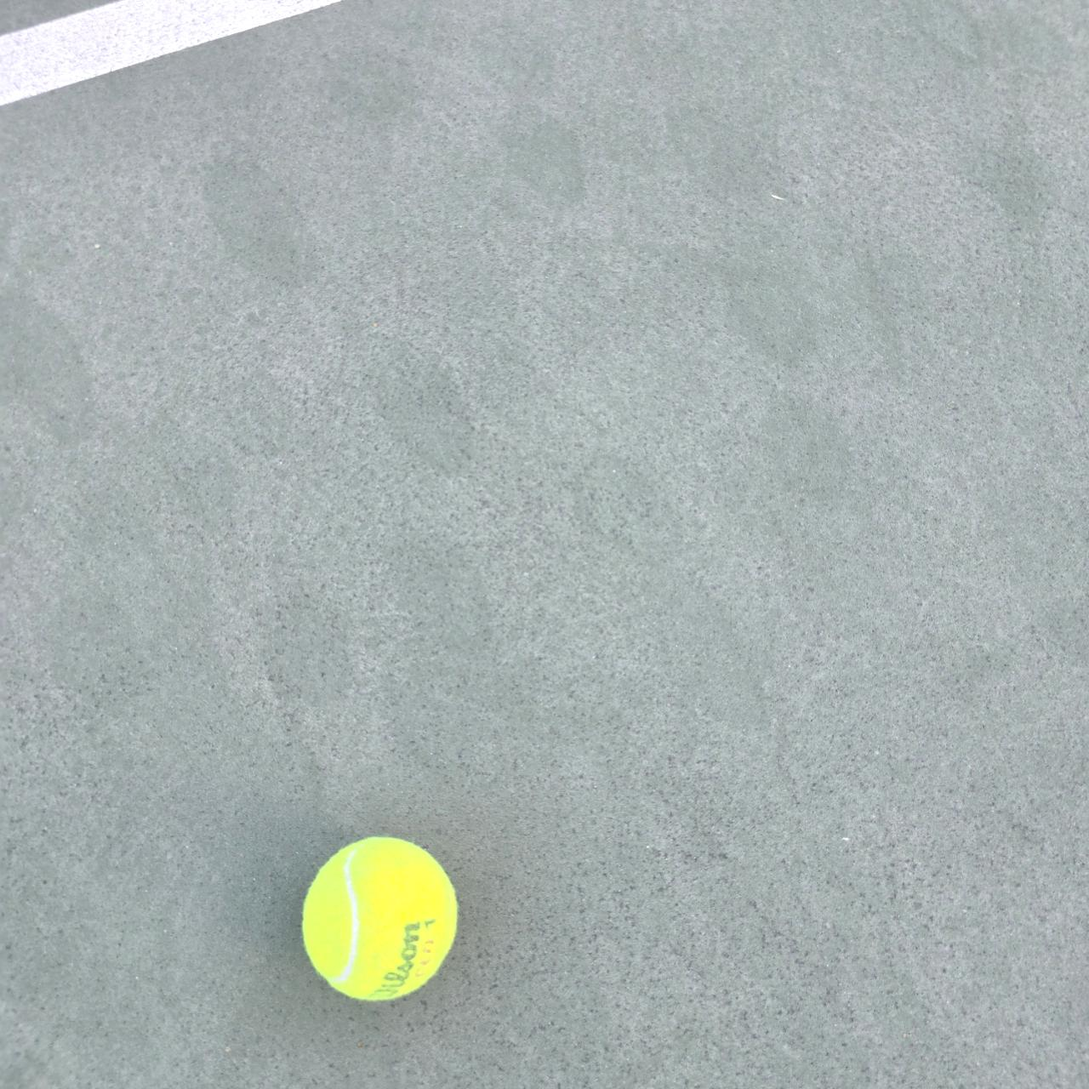tennis-ball: (299, 833, 459, 1003)
